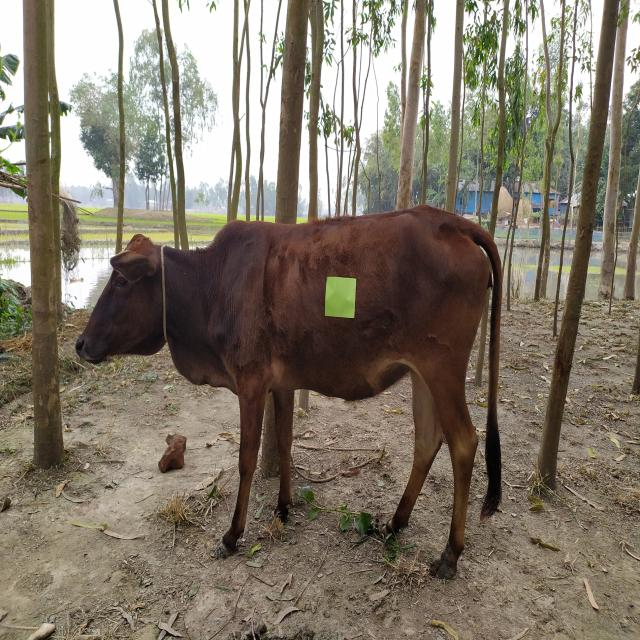badan_sapi: (232, 215, 466, 402)
sapi: (74, 201, 514, 593)
